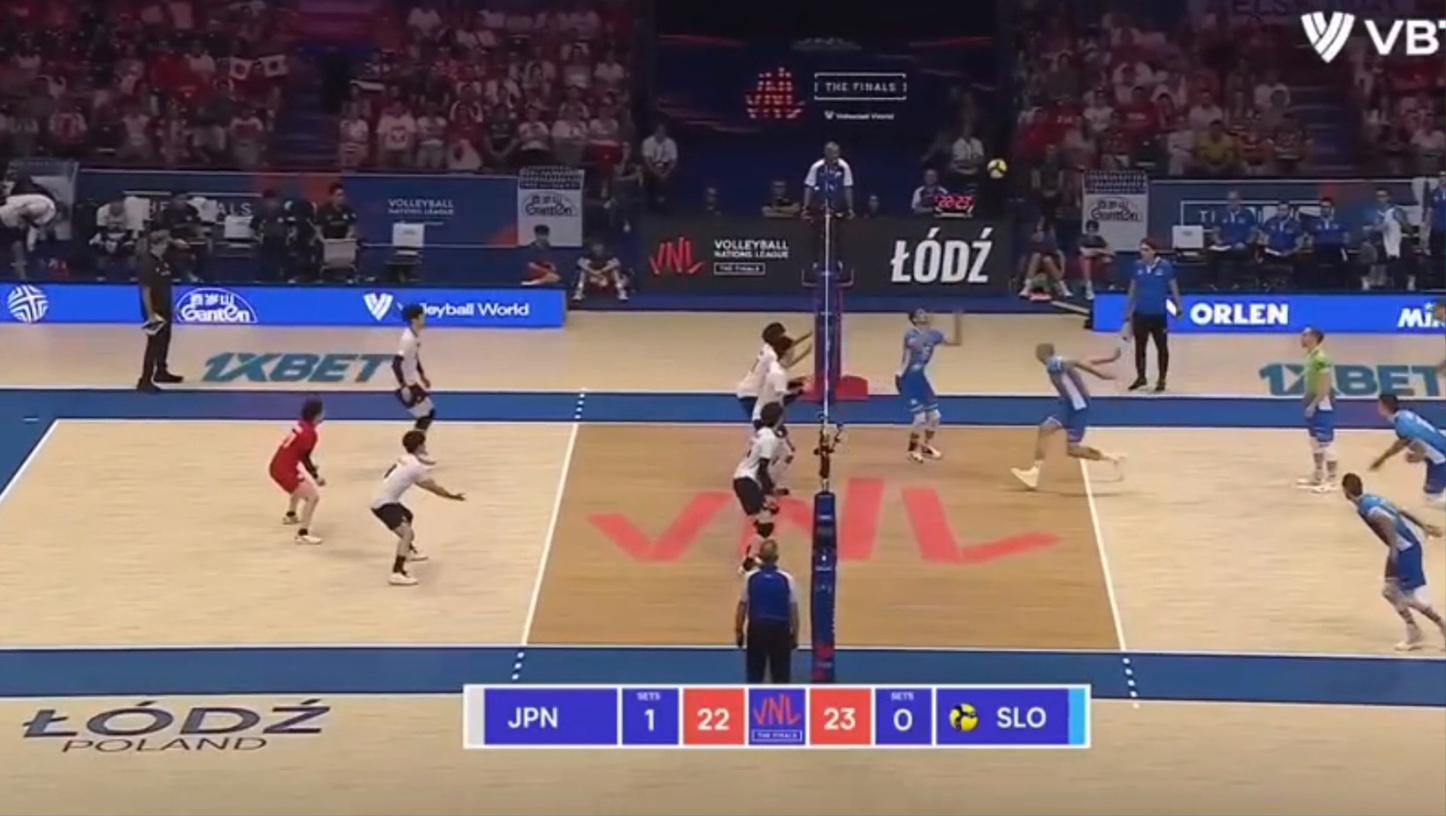ball: (985, 157, 1008, 179)
player: (1011, 342, 1123, 490), (1341, 473, 1445, 632), (894, 309, 961, 462), (1369, 393, 1445, 505), (1298, 326, 1338, 492)
player 1: (369, 429, 465, 585), (732, 402, 793, 546), (268, 398, 325, 544), (391, 304, 435, 433), (736, 321, 786, 411), (753, 341, 806, 419)
referee: (1123, 240, 1182, 392), (735, 539, 797, 683), (137, 221, 184, 392), (802, 141, 854, 293)
